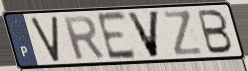B: (196, 8, 235, 55)
E: (94, 10, 139, 62)
R: (60, 15, 107, 62)
V: (125, 10, 162, 60), (29, 14, 61, 64)
Z: (161, 9, 206, 57)
